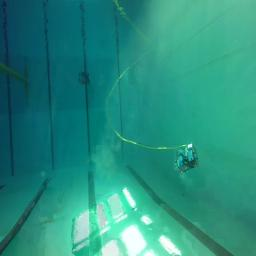Full: (78, 76, 90, 86)
front: (174, 146, 199, 175)
